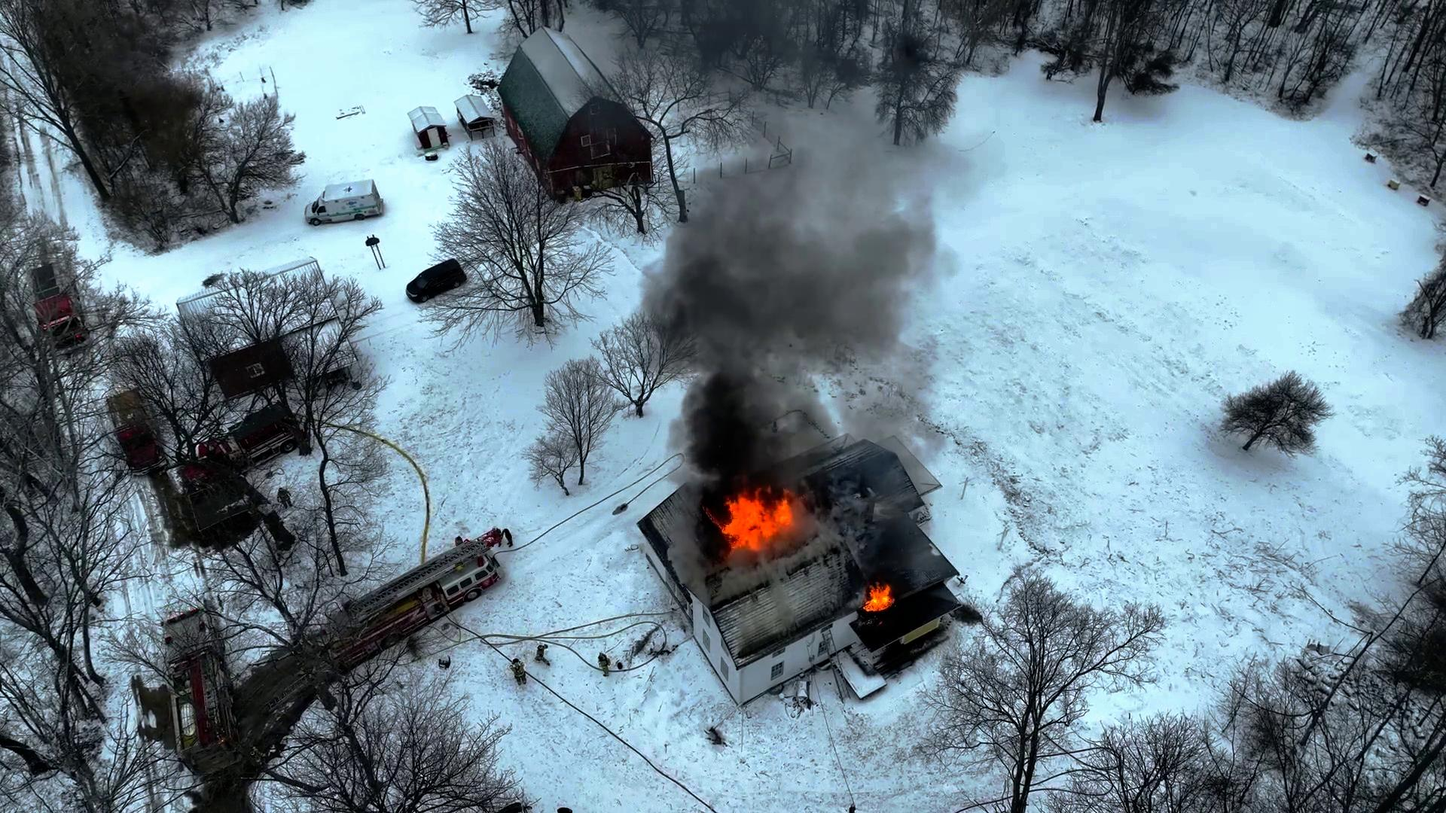fire: (721, 490, 787, 550), (865, 589, 897, 624)
smoke: (716, 305, 808, 448)
